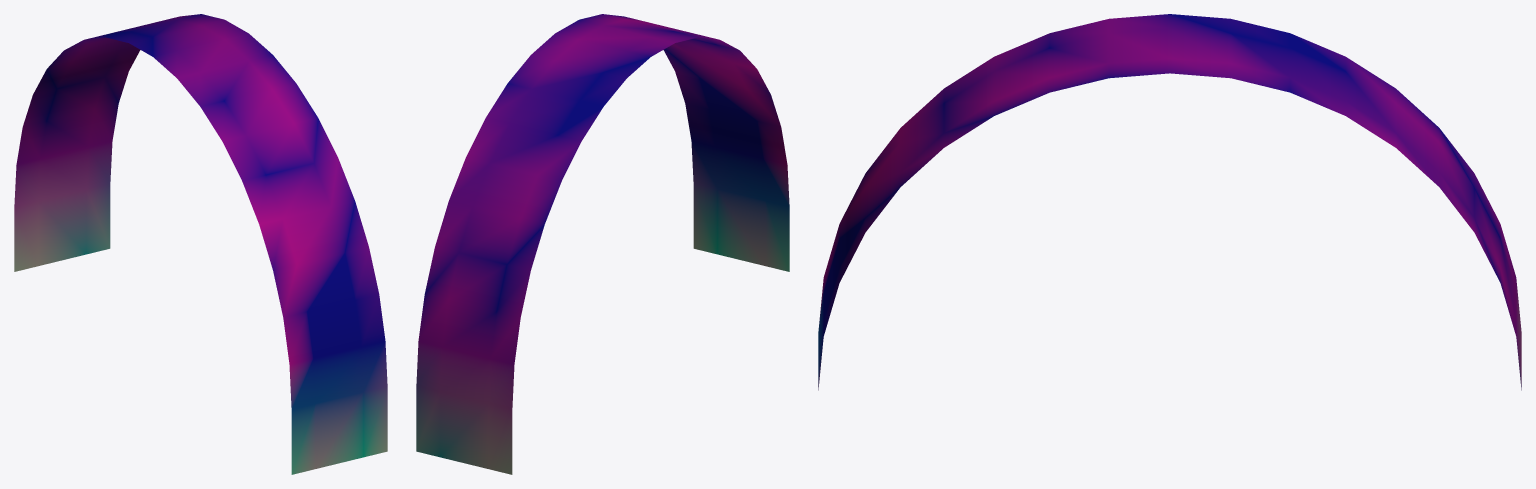
Rendered from canal_vault_8m.glb.
3 views of the same model, side by side, from view 1: azimuth 30°, elevation 25°; view 2: azimuth 150°, elevation 25°; view 3: azimuth 270°, elevation 25° (orthographic). The views are drawn at different scales.
Parts seen in each view (by area): view 1: canal_vault; view 2: canal_vault; view 3: canal_vault.
Part boxes in pixels (x1,y1,x2,y2): canal_vault: (14,14,387,474); canal_vault: (416,14,789,474); canal_vault: (818,14,1521,390).
Bounding box in the file's own units: 8 × 25.2 × 40.
